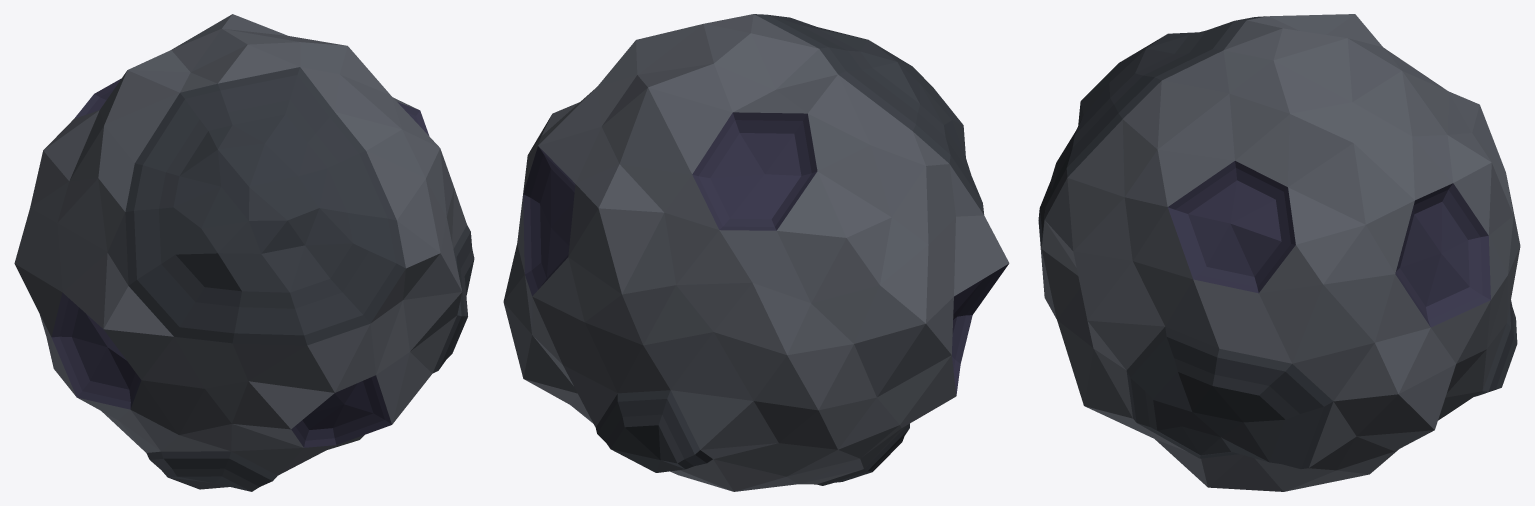
The model's file is Moon_4.1.fbx.
3 views of the same model, side by side, from view 1: azimuth 30°, elevation 25°; view 2: azimuth 150°, elevation 25°; view 3: azimuth 270°, elevation 25° (orthographic). The views are drawn at different scales.
Visible parts, largest first — view 1: Icosphere.020; view 2: Icosphere.020; view 3: Icosphere.020.
Boxes of the visible parts, x1,y1,x2,y2 form: Icosphere.020: (14,14,474,491); Icosphere.020: (503,14,1009,491); Icosphere.020: (1038,14,1520,491).
Size of the model in its own units: 39.99 by 40.03 by 39.13.
